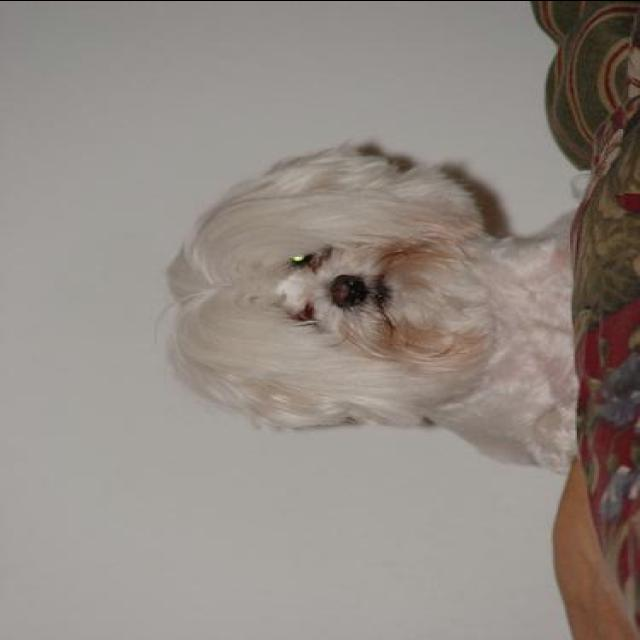maltese_dog: (164, 142, 594, 475)
